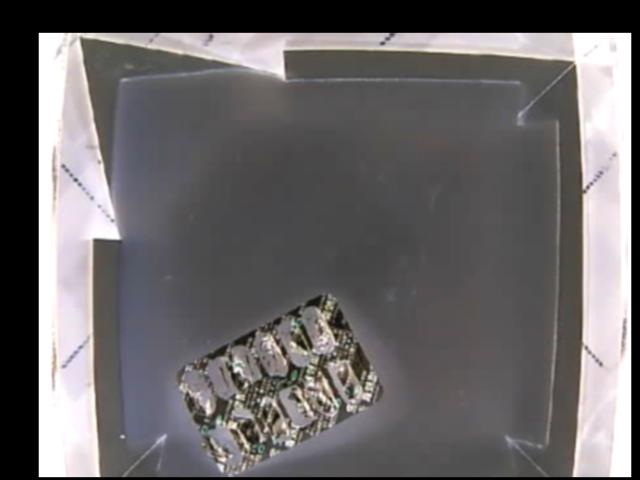Medicine: (179, 294, 388, 475)
